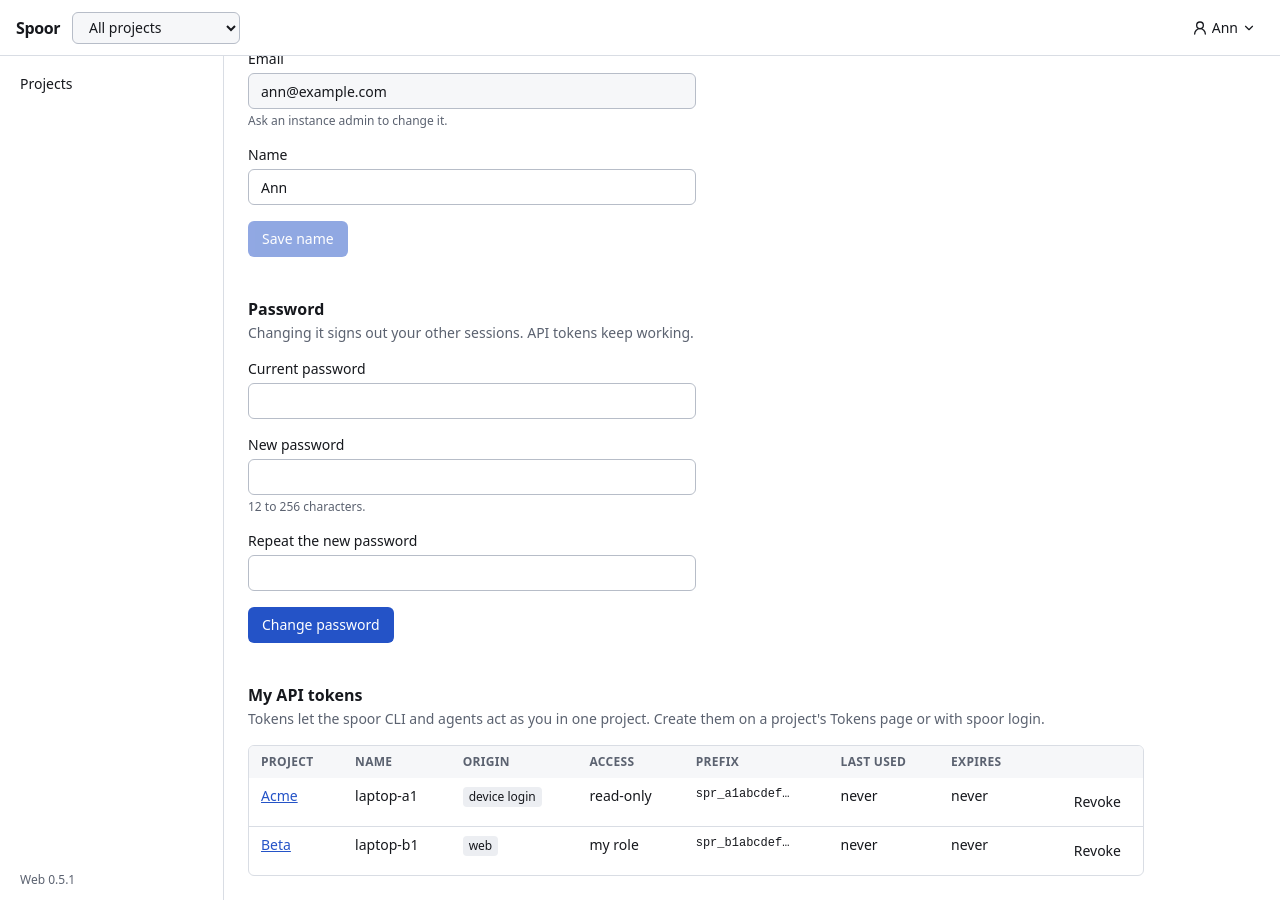
Test case: AccountPage › lists only the caller's own active user tokens across projects and revokes one
(page scrolled)
Expected: the text "read-only" is shown, [578,778,684,826]
Expected: the text "my role" is shown, [578,826,684,875]
Click the button "Revoke" in the row of "Beta": [1097, 851] box [1064,835,1131,867]
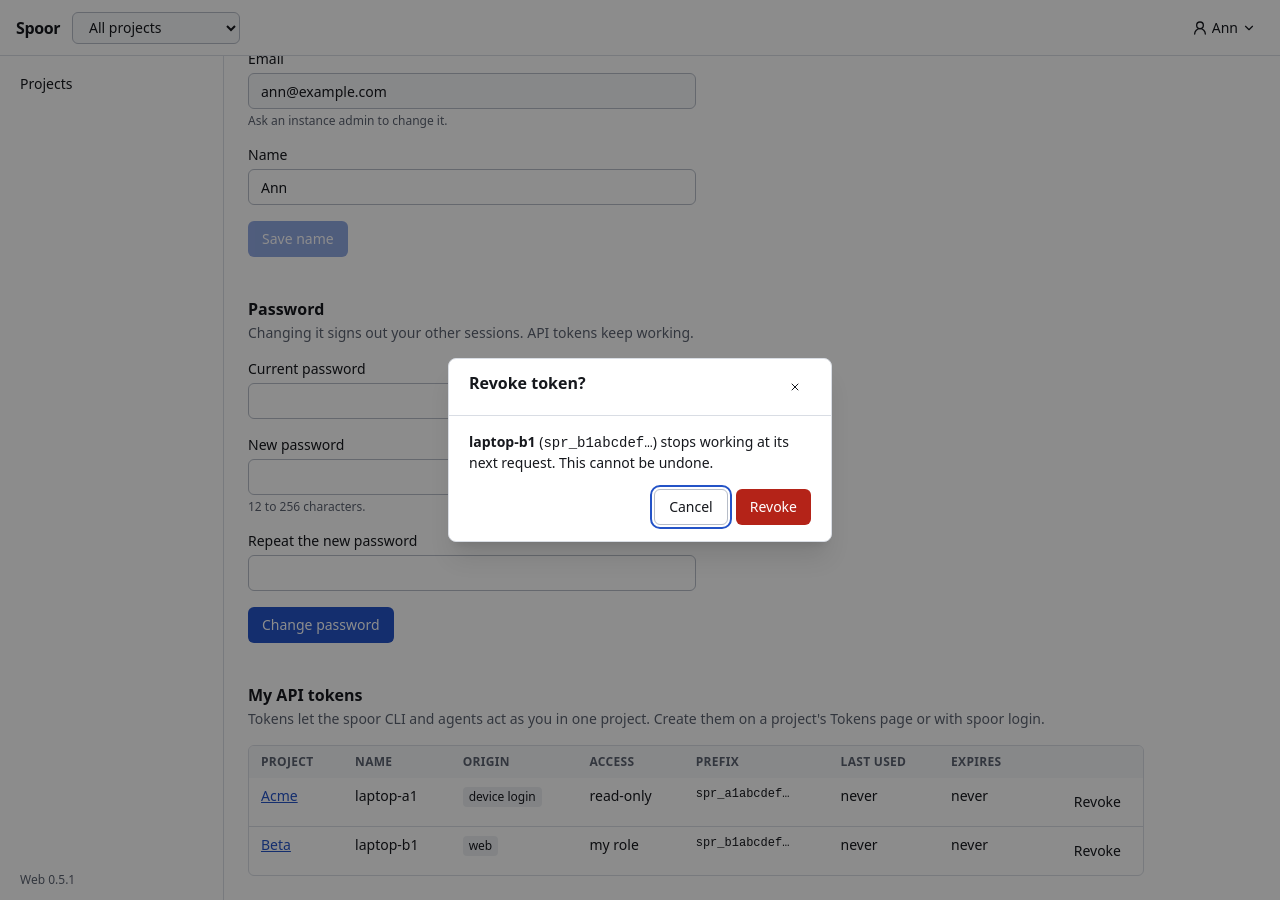
Click the button "Revoke": [773, 507] box [736,489,811,525]
(page scrolled)
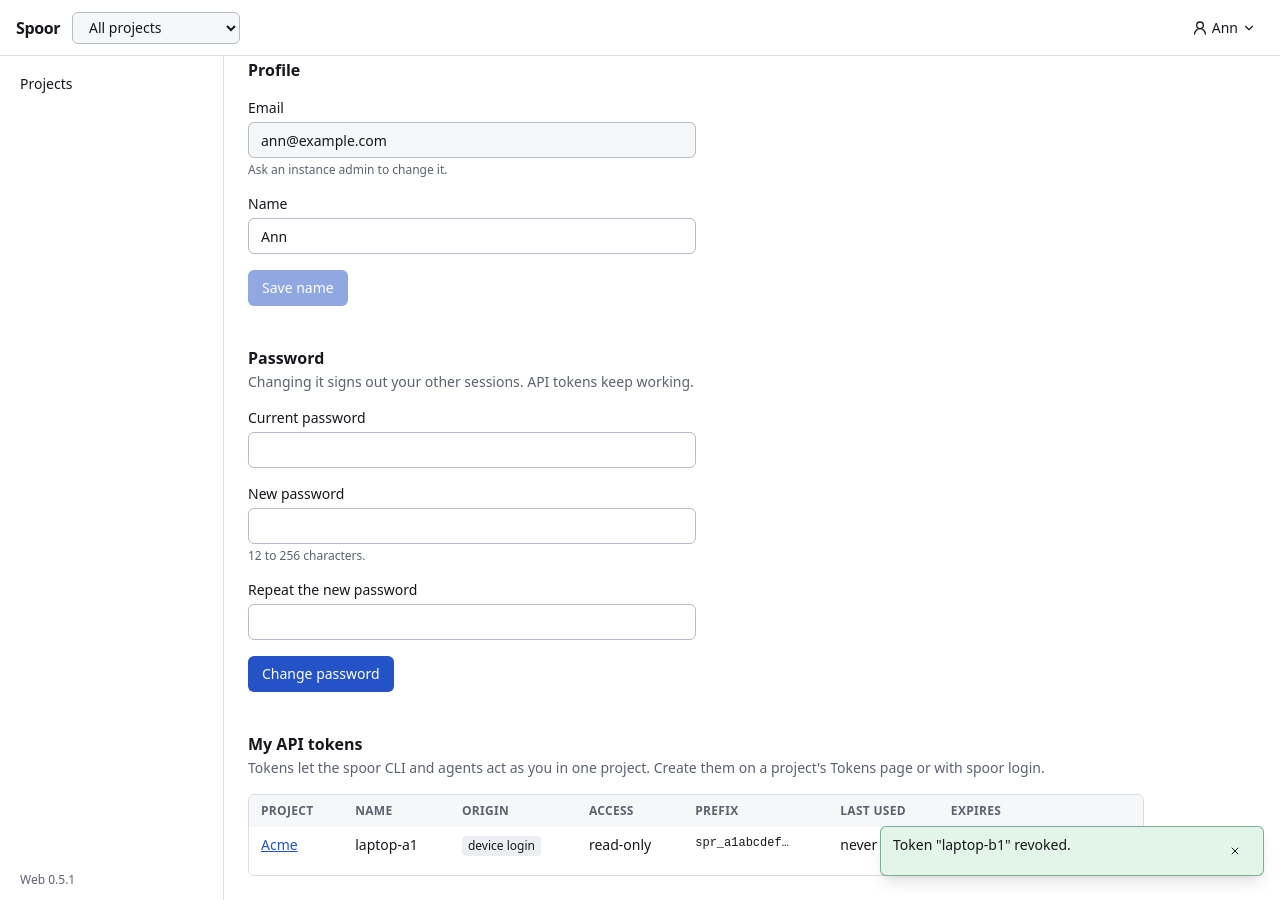
Expected: the text "Token \"laptop-b1\" revoked." is shown, [893,835,1071,854]
